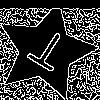T: (21, 26, 72, 81)
